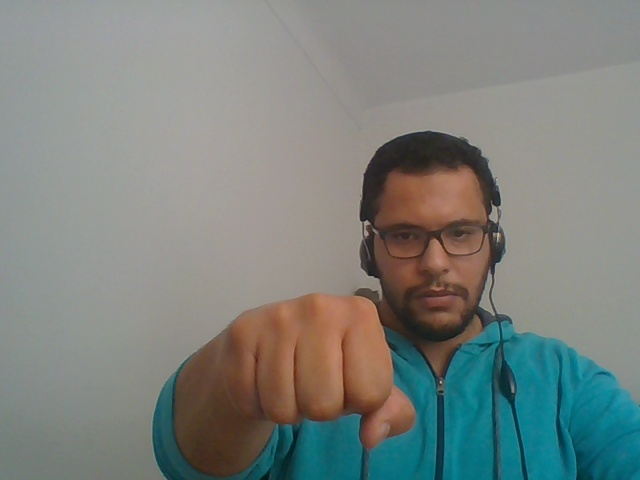yes: (180, 234, 420, 476)
